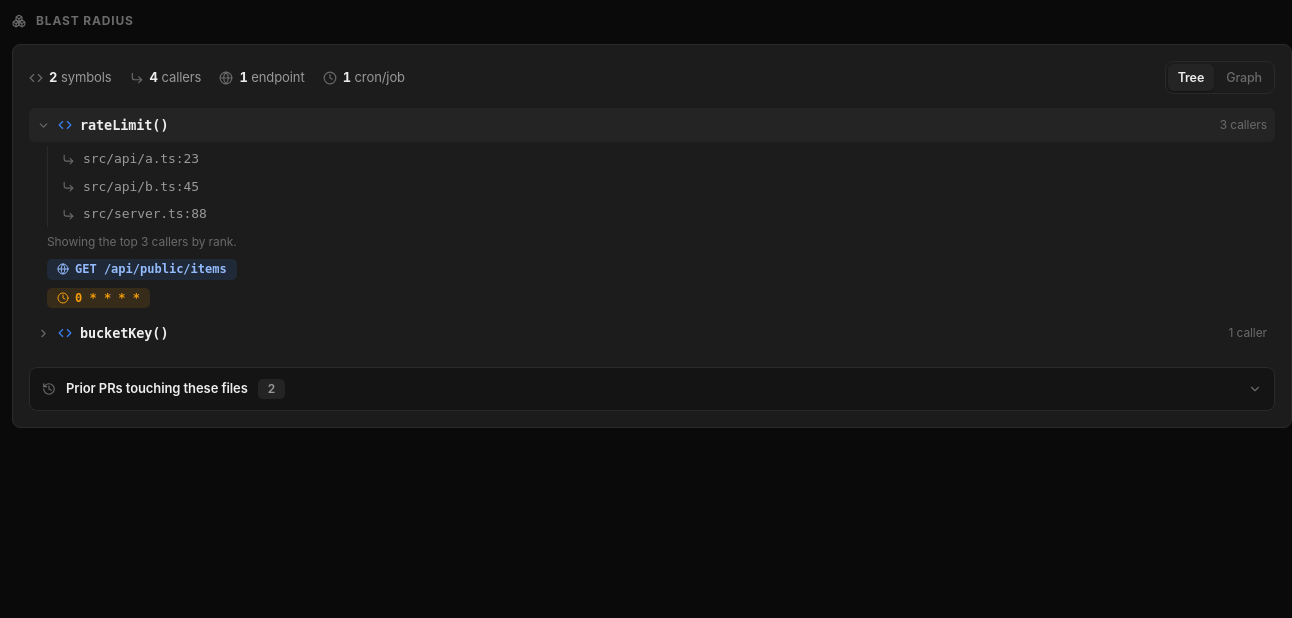
Test: BlastRadiusCard — prior PRs › lists prior PRs with their shared files once expanded
Expected: the 2nd text "2" is shown, [258,379,285,399]
Expected: the text "Introduce public API namespace" is not shown
Click the button "Prior PRs touching these files 2" at (157, 388), box [30,368,1274,410]
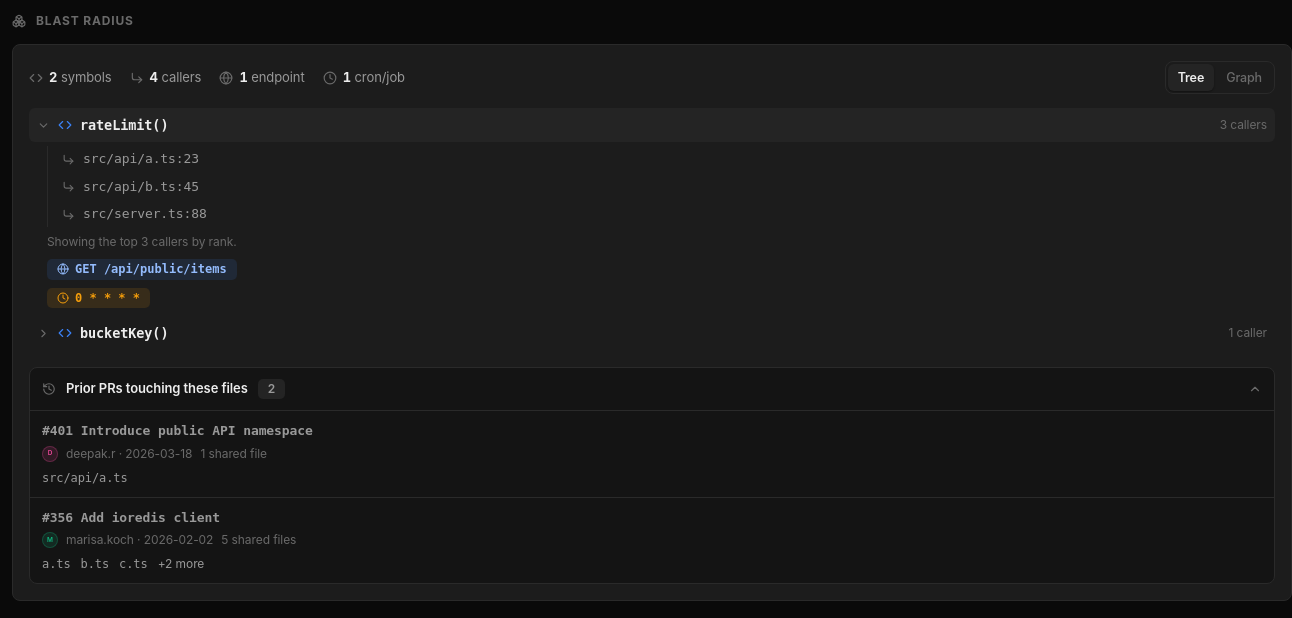
Result: the text "deepak.r · 2026-03-18" is shown at [66,445,192,463]
Result: the text "1 shared file" is shown at [200,445,267,463]
Result: the text "5 shared files" is shown at [221,531,296,549]
